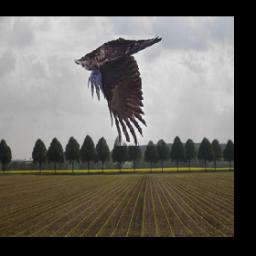Crow: (74, 35, 163, 146)
